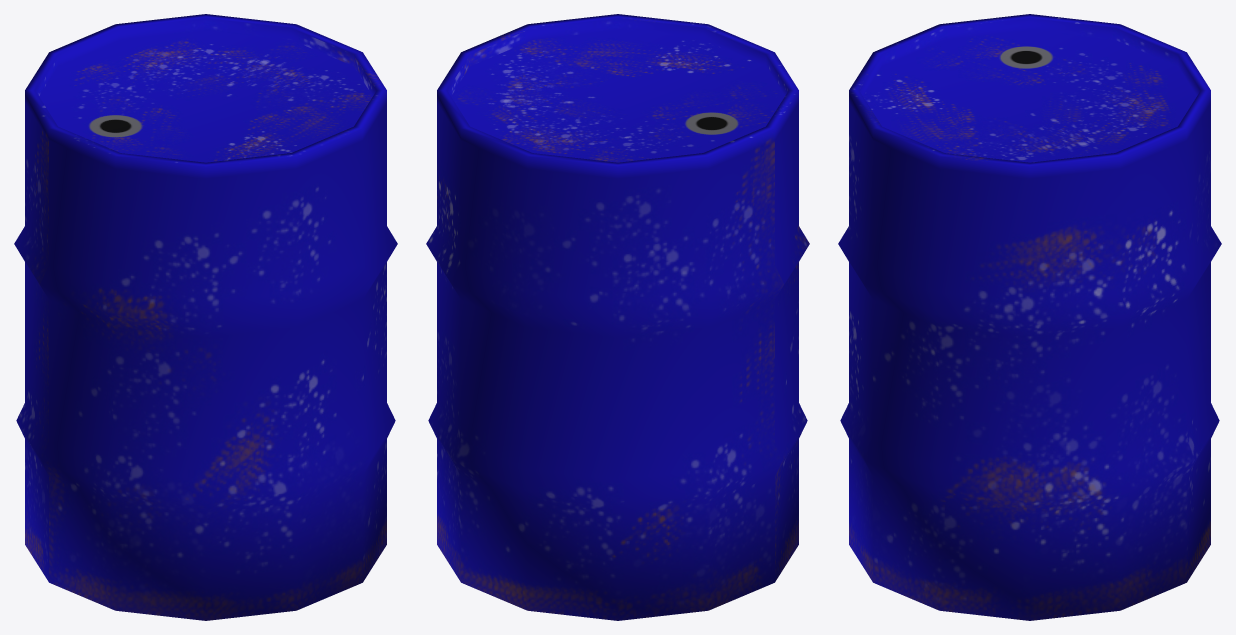
The model's file is OilDrum.fbx.
The picture shows the model from 3 angles, left to right: view 1: azimuth 30°, elevation 25°; view 2: azimuth 150°, elevation 25°; view 3: azimuth 270°, elevation 25°; orthographic projection.
Parts seen in each view (by area): view 1: OilDrum; view 2: OilDrum; view 3: OilDrum.
Boxes of the visible parts, x1,y1,x2,y2 form: OilDrum: (14,14,397,620); OilDrum: (426,14,809,620); OilDrum: (838,14,1221,620).
Bounding box in the file's own units: 83.95 × 110 × 83.95.
